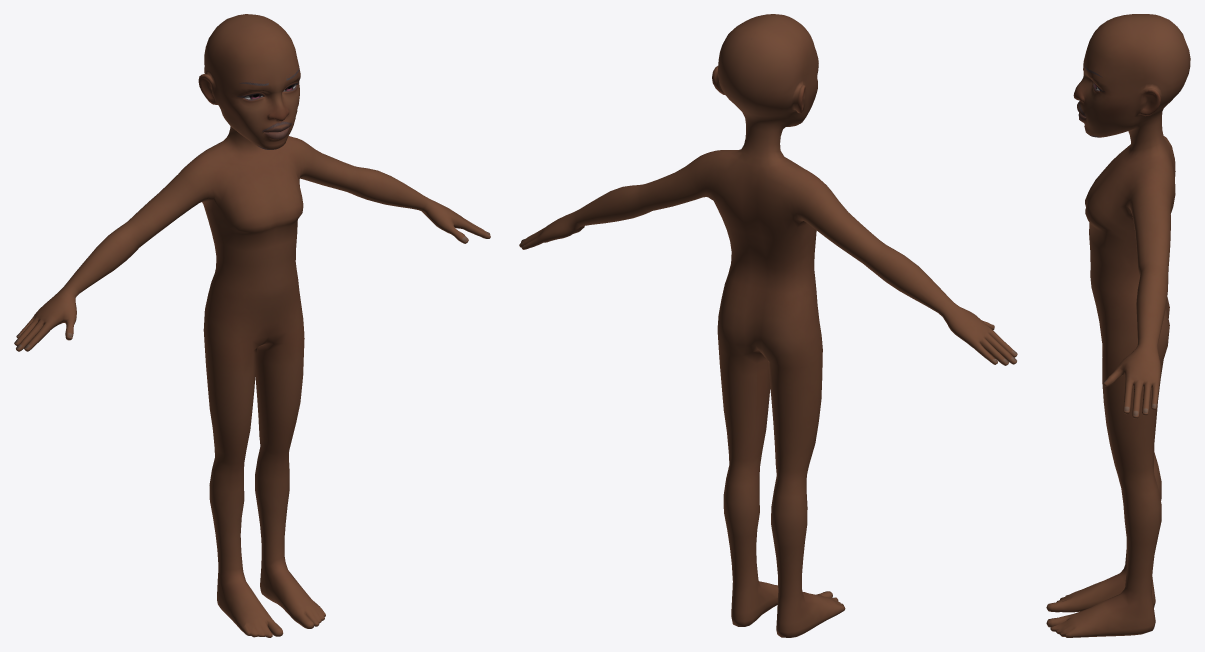
Rendered from frame_0077.glb.
3 renders of one model, left to right at view 1: azimuth 30°, elevation 25°; view 2: azimuth 150°, elevation 25°; view 3: azimuth 270°, elevation 25°, orthographic. The views are drawn at different scales.
Parts seen in each view (by area): view 1: frame_0077_head_geo; view 2: frame_0077_head_geo; view 3: frame_0077_head_geo.
Boxes of the visible parts, left/top/right/bottom form: frame_0077_head_geo: left=14, top=14, right=490, bottom=637; frame_0077_head_geo: left=519, top=14, right=1017, bottom=637; frame_0077_head_geo: left=1046, top=14, right=1190, bottom=637.
Bounding box in the file's own units: 1.28 × 1.5 × 0.3253.
3 materials, 3 textured.
